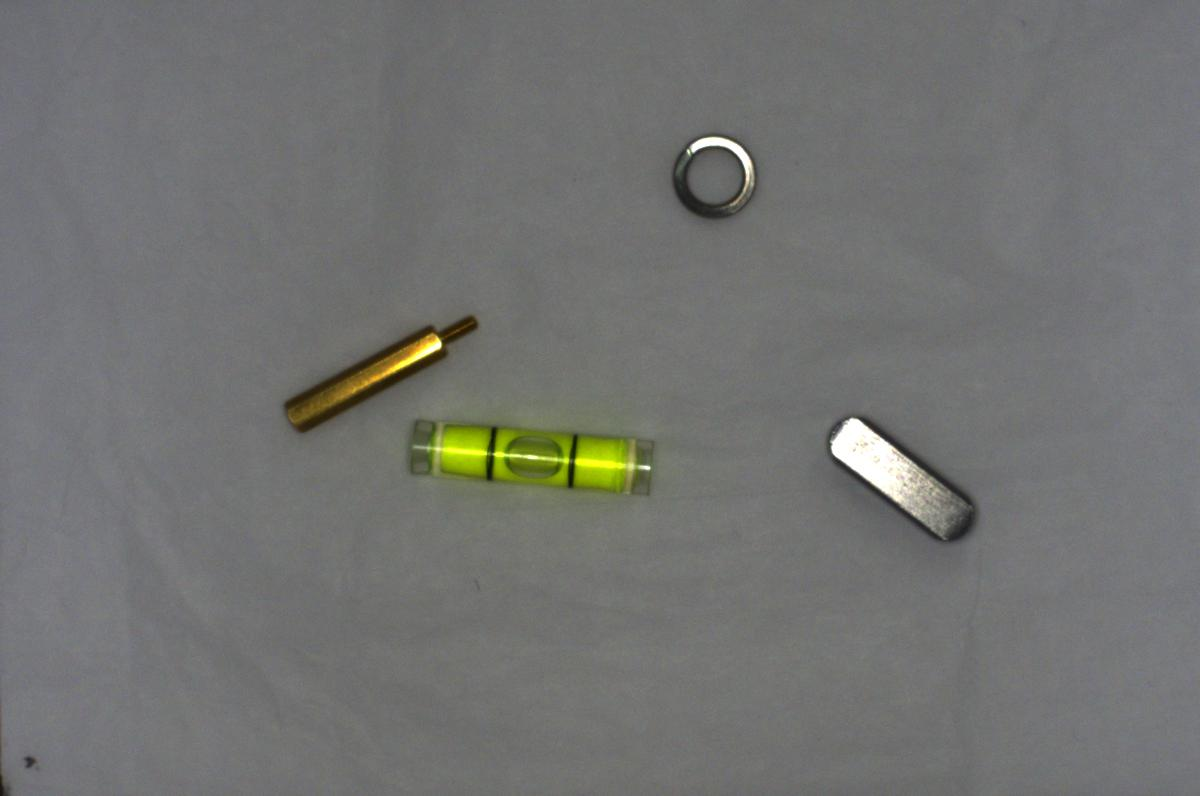Hexagon pillar: (261, 306, 482, 434)
Horizontal bubble: (400, 407, 666, 507)
Keybar: (831, 414, 987, 549)
Spring washer: (670, 125, 766, 216)
